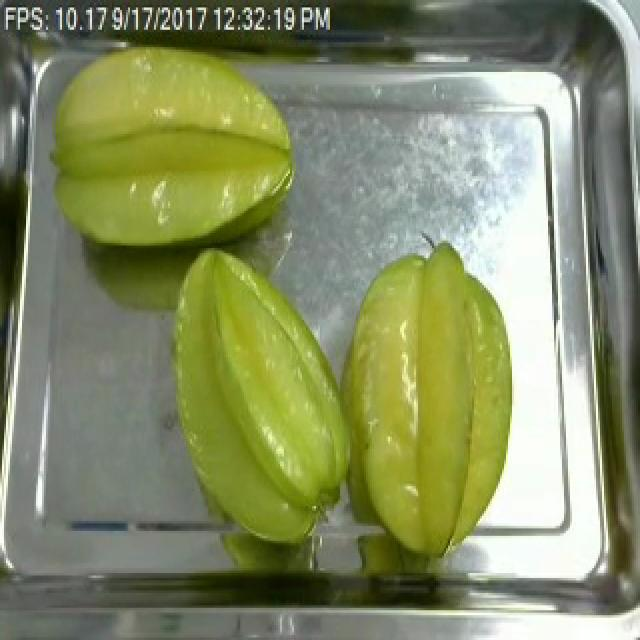fruit: (322, 238, 526, 576), (154, 233, 362, 563), (38, 30, 304, 258)
